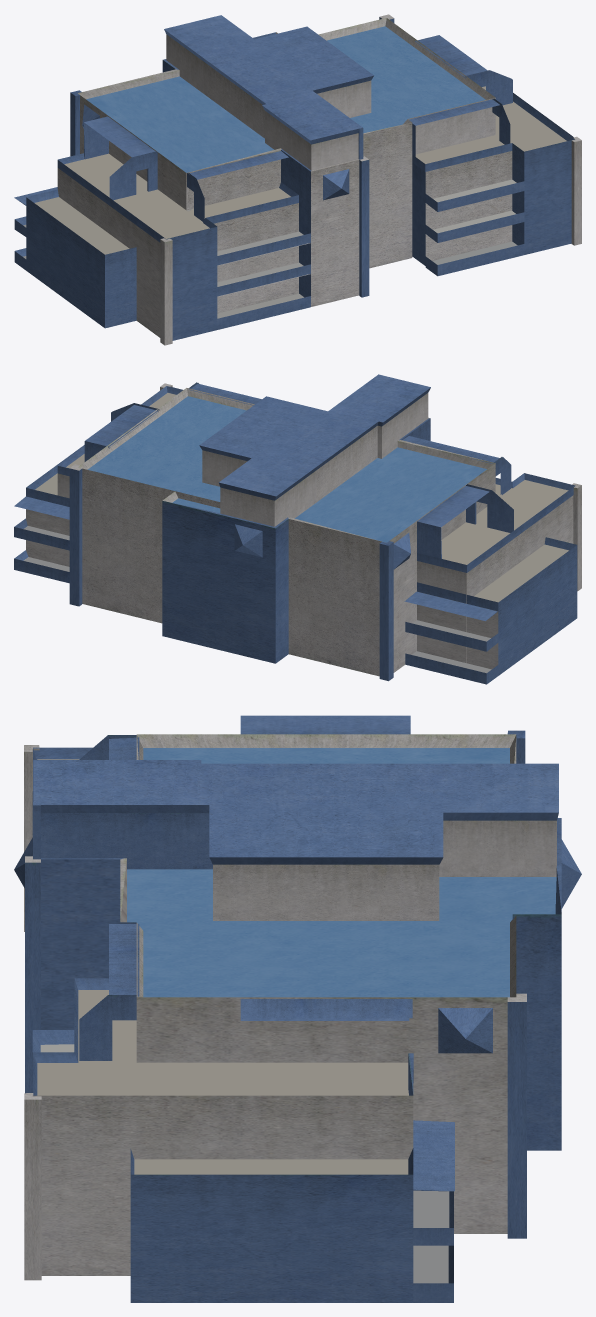
File: ORB_3_S3_Detail_3.fbx
The picture shows the model from 3 angles, top to bottom: view 1: azimuth 30°, elevation 25°; view 2: azimuth 150°, elevation 25°; view 3: azimuth 270°, elevation 25°; orthographic projection. The views are drawn at different scales.
Parts seen in each view (by area): view 1: ORB_3_S3_Detail_3; view 2: ORB_3_S3_Detail_3; view 3: ORB_3_S3_Detail_3.
Part boxes in pixels (x1,y1,x2,y2): ORB_3_S3_Detail_3: [14, 14, 581, 345]; ORB_3_S3_Detail_3: [14, 374, 581, 684]; ORB_3_S3_Detail_3: [14, 715, 581, 1302].
Size of the model in its own units: 4234 by 1434 by 2530.
